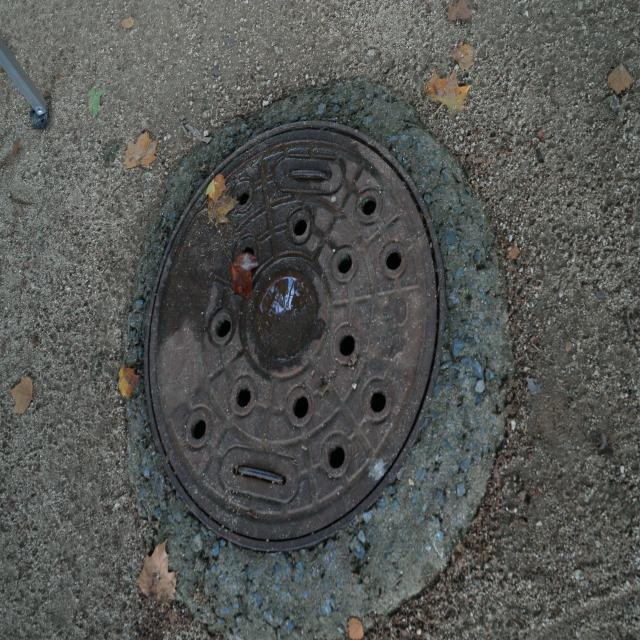manhole: (146, 122, 441, 551)
